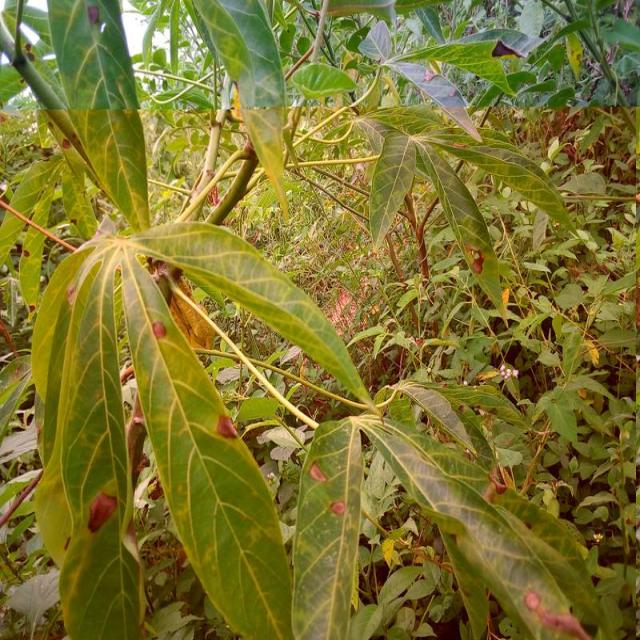cassava leaf: (119, 243, 294, 638), (359, 412, 603, 638), (46, 0, 150, 233), (184, 0, 290, 219), (290, 415, 363, 638)
